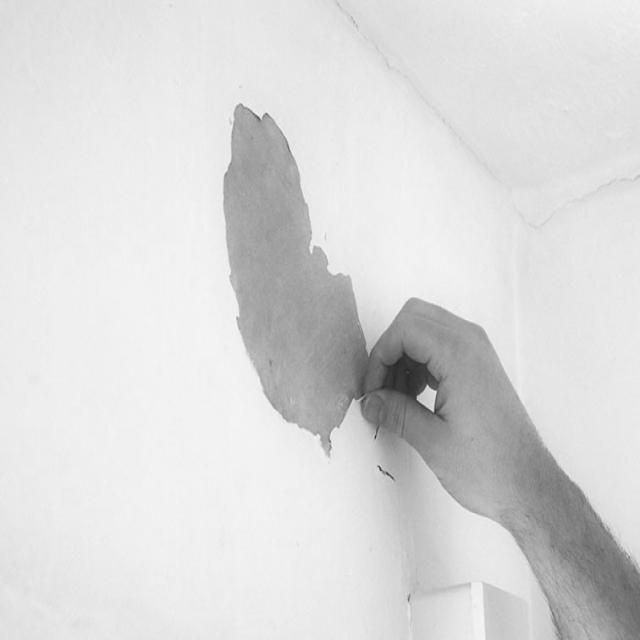peeling paint: (197, 38, 418, 495)
